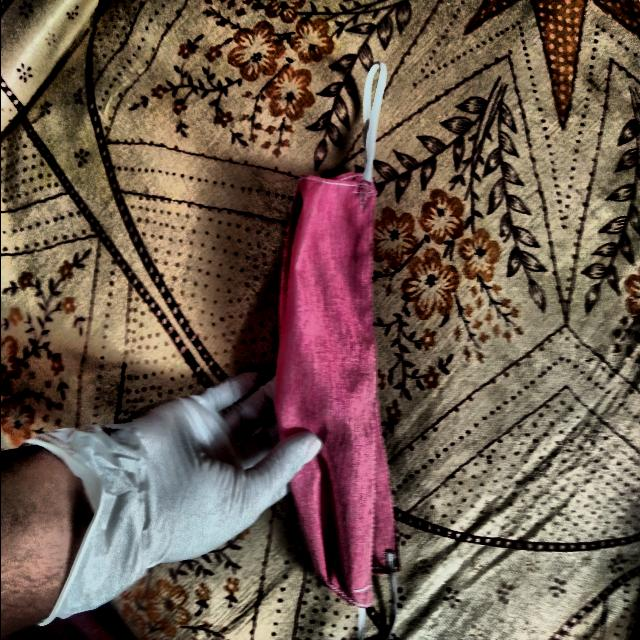gloved: (18, 348, 332, 632)
